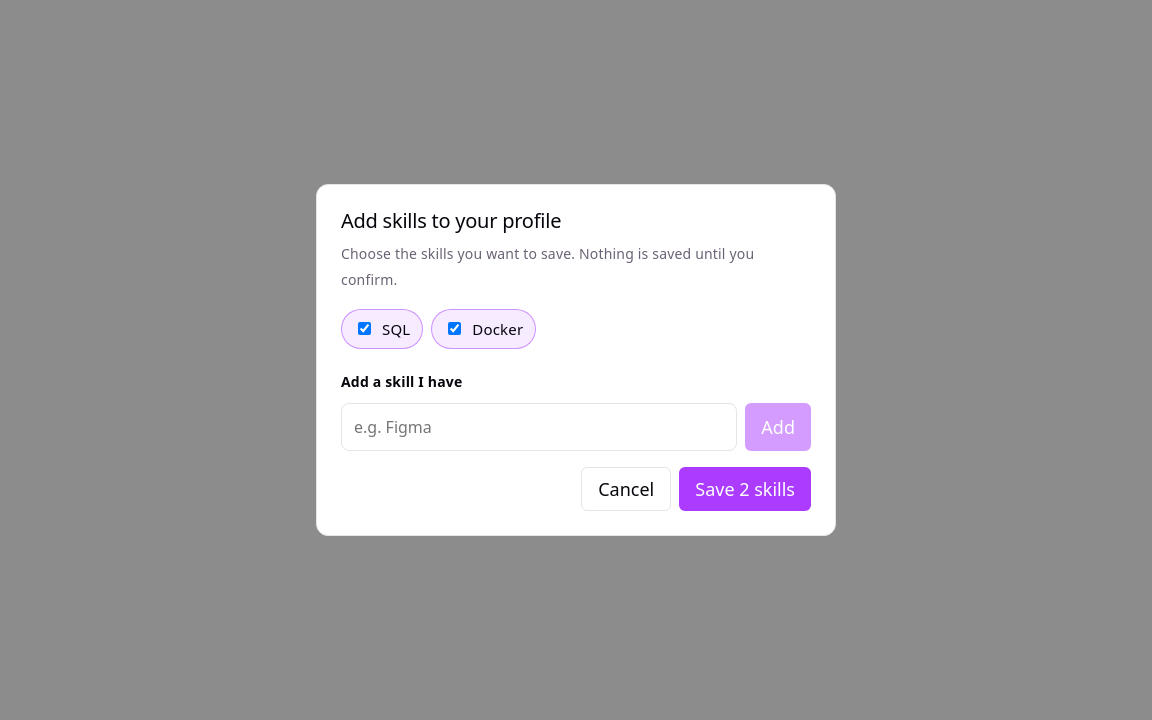
Test: AddToProfileModal › updates the count when a skill is unticked and disables saving at zero
What coordinates should you click on to do the following:
click the checkbox labelled "Docker"
I would click on:
 (455, 329)
Its box is [448,322,461,335].
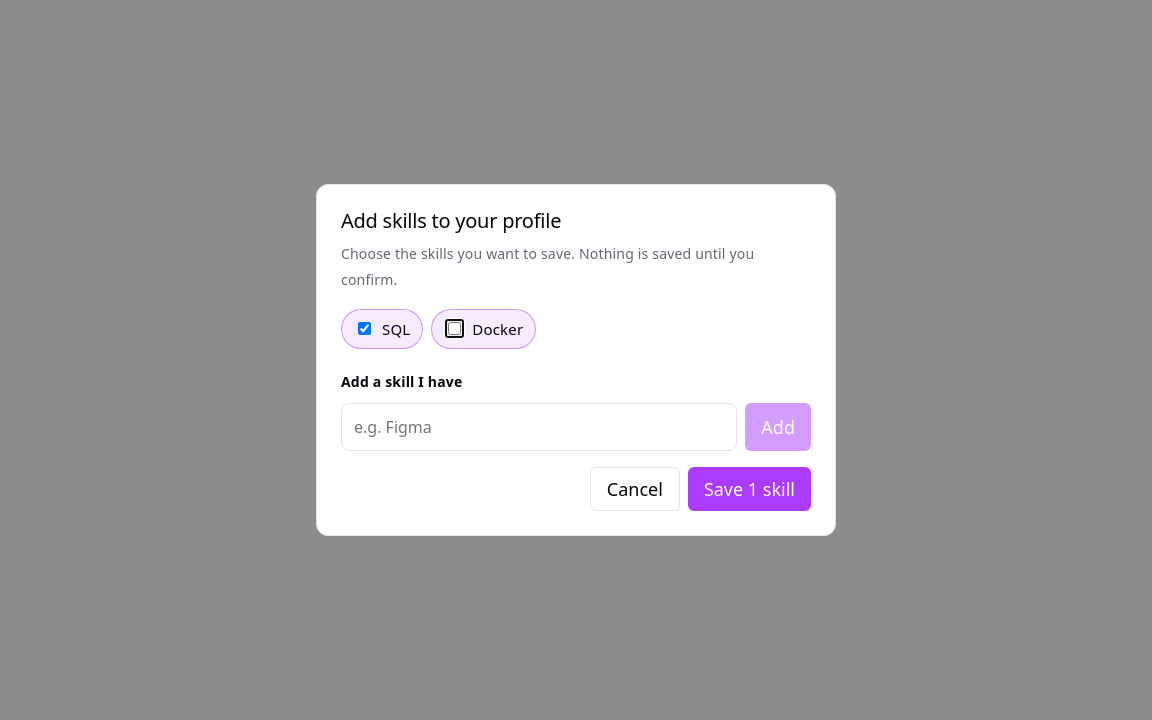
Check: the button "Save 1 skill" is enabled, box [688,467,811,511]
What coordinates should you click on to do the following:
click the checkbox labelled "SQL"
I would click on:
 (364, 329)
Its box is [358,322,371,335].
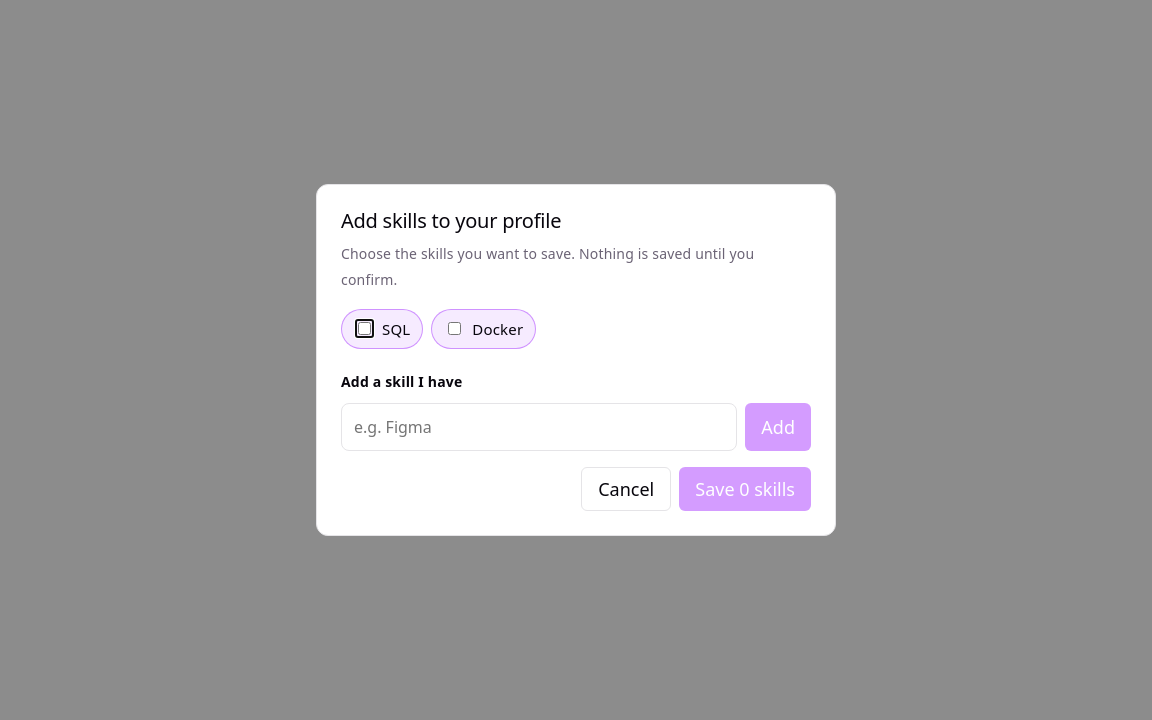
Check: the button "Save 0 skills" is disabled, box [679,467,811,511]
